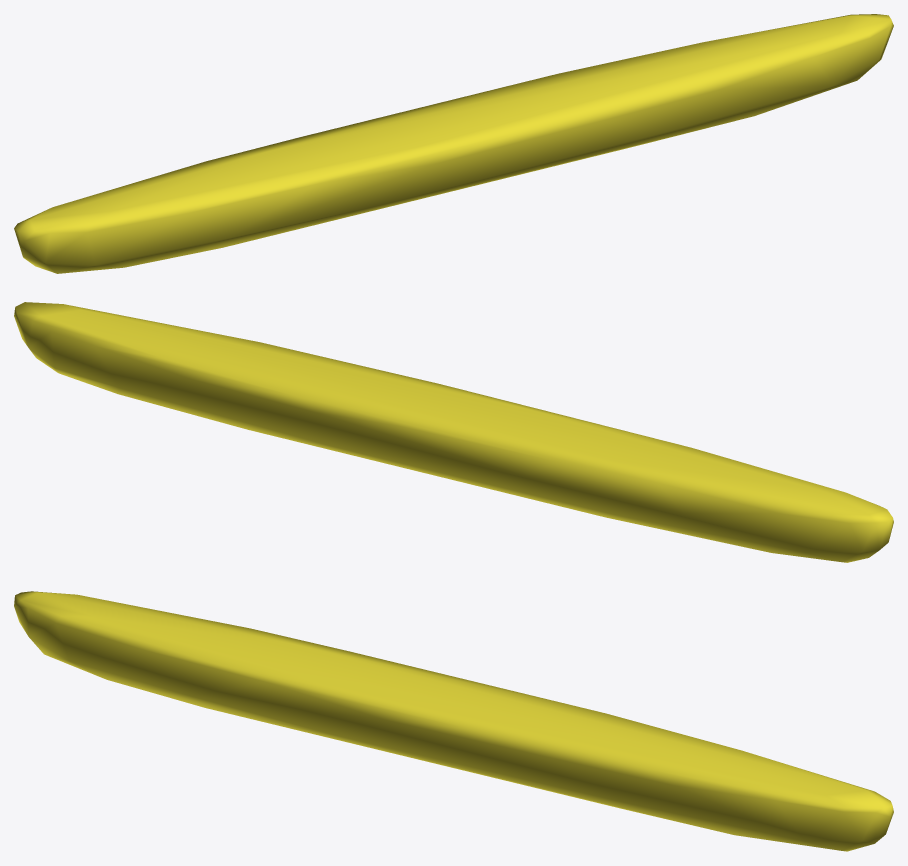
Rendered from yut-ricky-edited.glb.
3 views of the same model, one above another, from view 1: azimuth 30°, elevation 25°; view 2: azimuth 150°, elevation 25°; view 3: azimuth 330°, elevation 25° (orthographic).
Parts seen in each view (by area): view 1: Cube.001; view 2: Cube.001; view 3: Cube.001.
Part boxes in pixels (x1,y1,x2,y2): Cube.001: [14, 14, 893, 273]; Cube.001: [14, 302, 893, 562]; Cube.001: [14, 591, 893, 851].
Size of the model in its own units: 12.55 by 0.9091 by 1.29.
